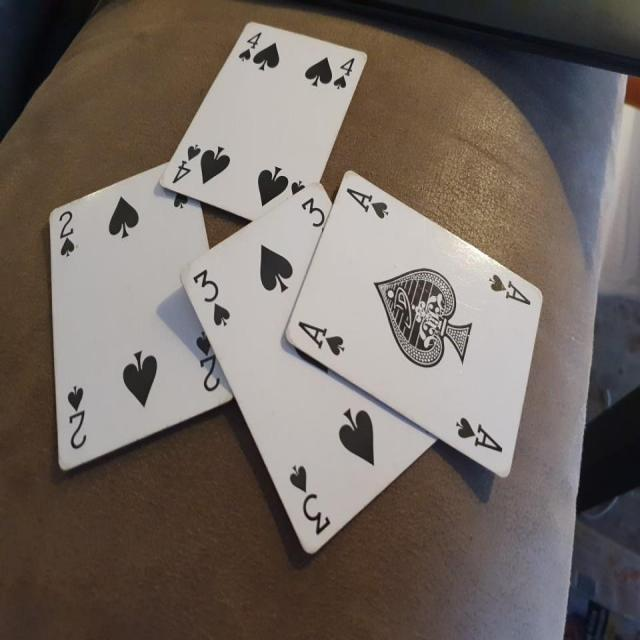2 Spades: (42, 166, 242, 478)
3 Spades: (175, 178, 416, 578)
4 Spades: (152, 20, 371, 232)
A Spades: (282, 166, 553, 487)
